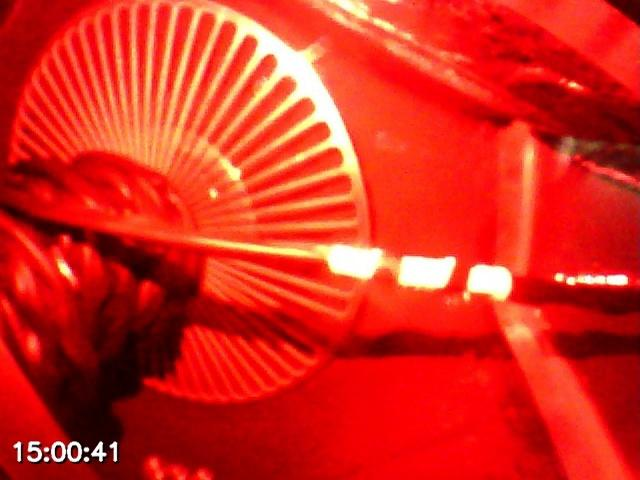white-dots: (325, 243, 513, 303)
